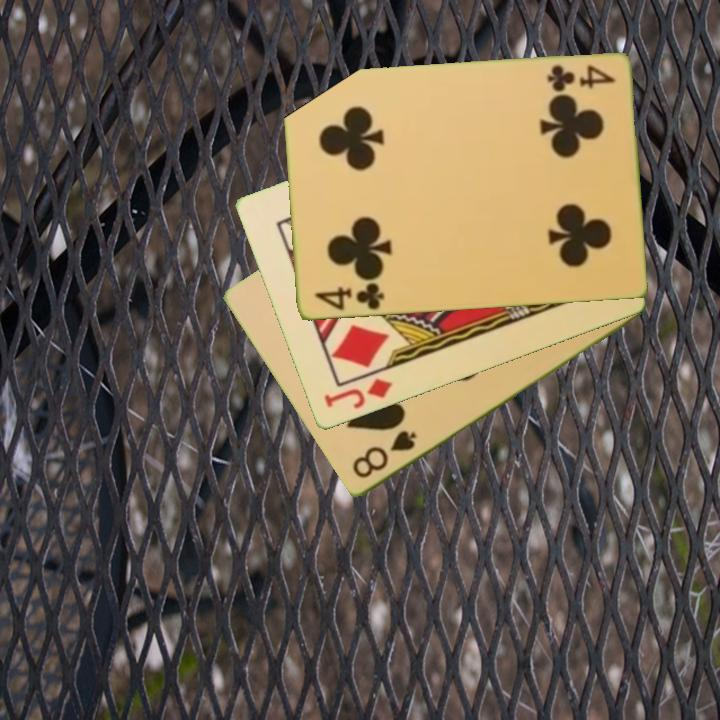4c: (311, 280, 387, 313), (543, 61, 617, 94)
8s: (348, 427, 420, 482)
Jd: (320, 375, 395, 412)
